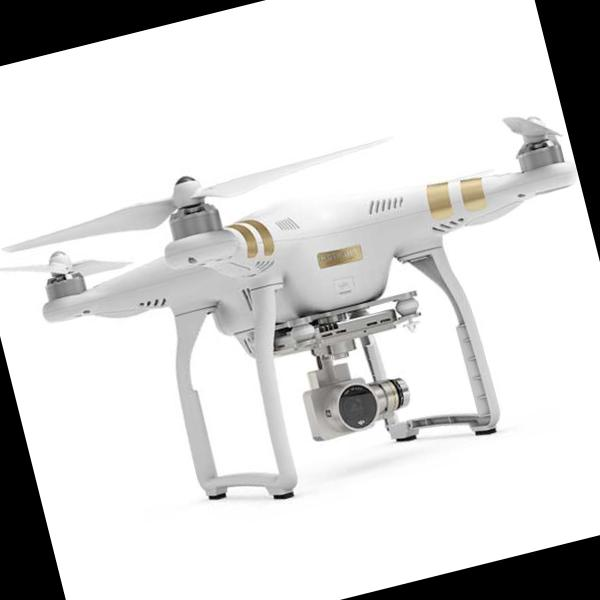drone: (0, 78, 595, 426)
